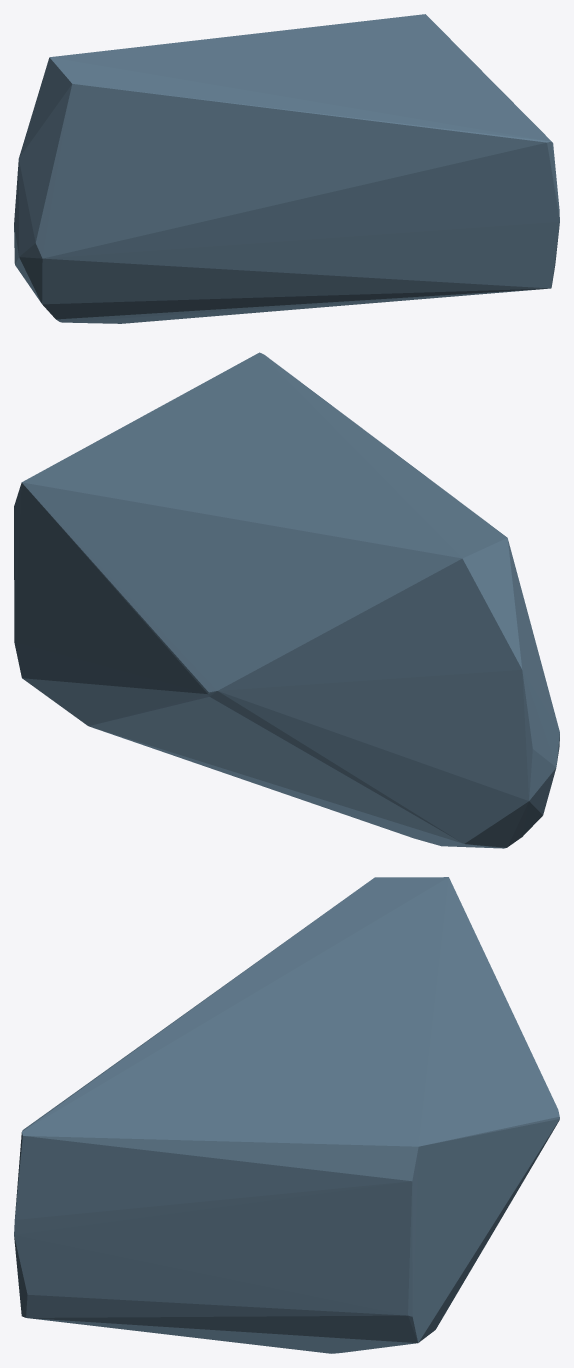
Rendered from serviceTool_drainCart_oilPump_a01.glb.
3 renders of one model, top to bottom at view 1: azimuth 30°, elevation 25°; view 2: azimuth 150°, elevation 25°; view 3: azimuth 270°, elevation 25°, orthographic. The views are drawn at different scales.
Parts seen in each view (by area): view 1: geometry_0; view 2: geometry_0; view 3: geometry_0.
Part boxes in pixels (left/top/right/bottom): geometry_0: left=14, top=14, right=559, bottom=323; geometry_0: left=14, top=352, right=559, bottom=848; geometry_0: left=14, top=877, right=559, bottom=1353.
Bounding box in the file's own units: 0.4799 × 0.2782 × 0.4247.
